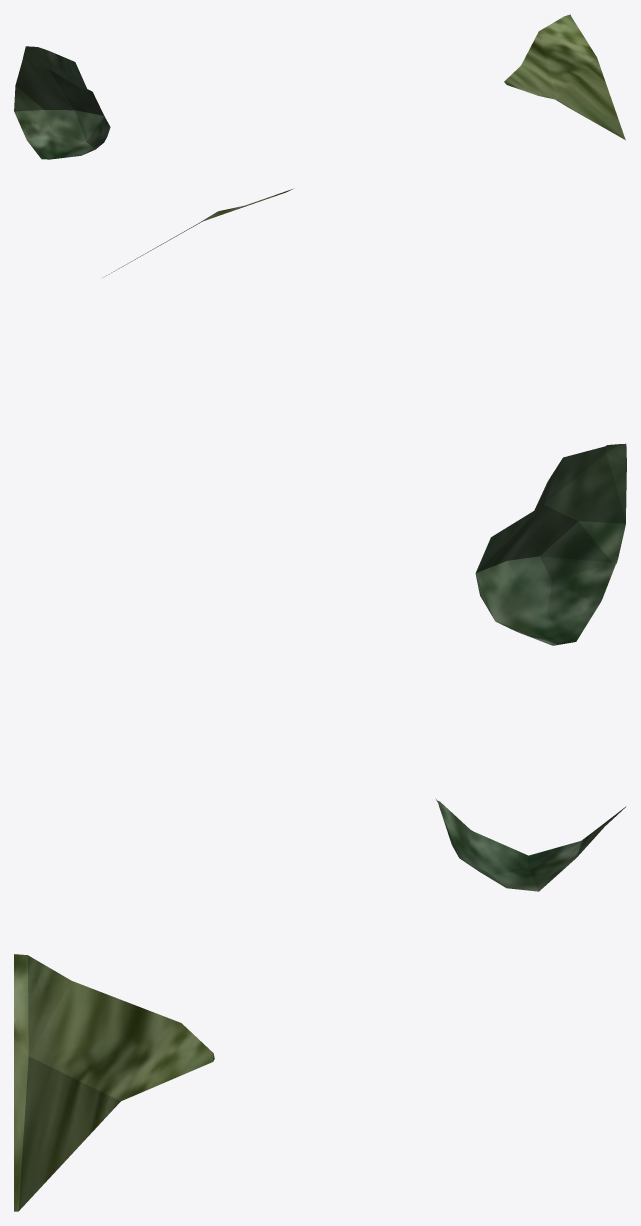
3 views of the same model, one above another, from view 1: azimuth 30°, elevation 25°; view 2: azimuth 150°, elevation 25°; view 3: azimuth 270°, elevation 25° (orthographic). The views are drawn at different scales.
Bounding box in the file's own units: 2.95 × 0.6623 × 1.99.
Materials: 1 (1 with a texture image).
